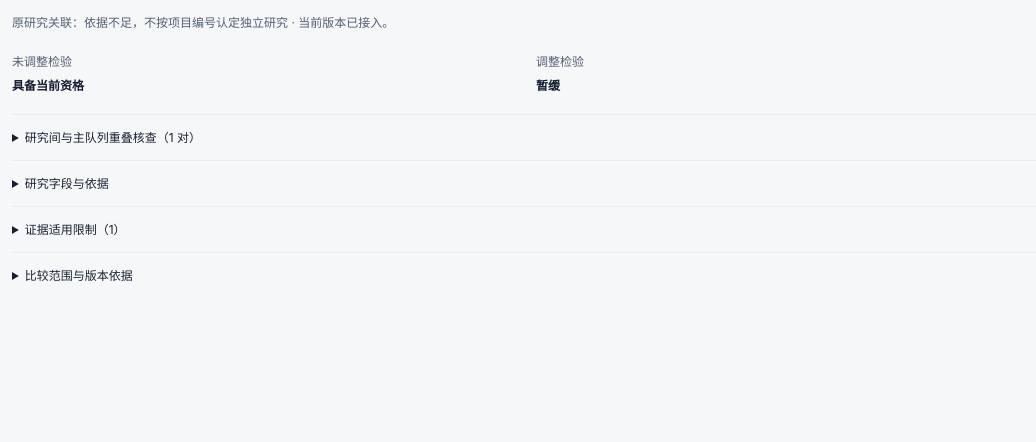
Scenario: omits process-only blockers but never hides scientific constraints
Check: the heading "证据适用限制（1）" is shown, box [25,222,126,237]
What coordinates should you click on to do the following:
click the heading "研究间与主队列重叠核查（1 对）"
I would click on:
 (113, 138)
Its box is [25,130,201,145].
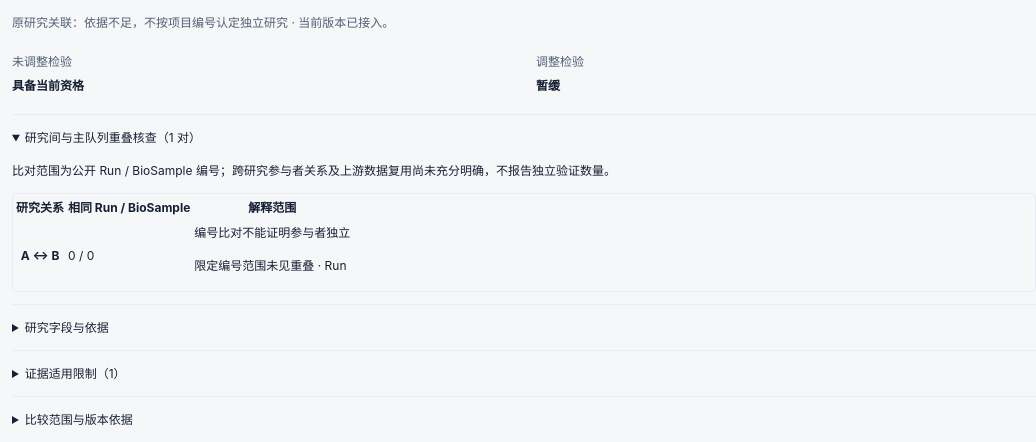
Check: the text "编号比对不能证明参与者独立" is shown, box [194,225,350,240]
Check: the text "限定编号范围未见重叠 · Run" is shown, box [194,255,350,276]
